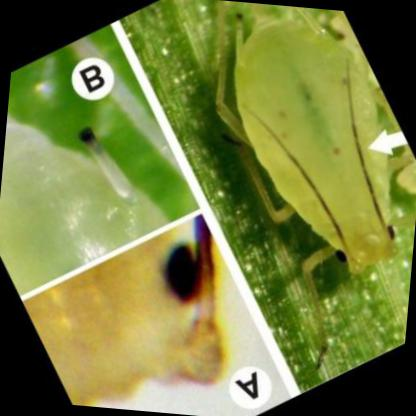schizaphis graminum: (211, 20, 398, 275)
